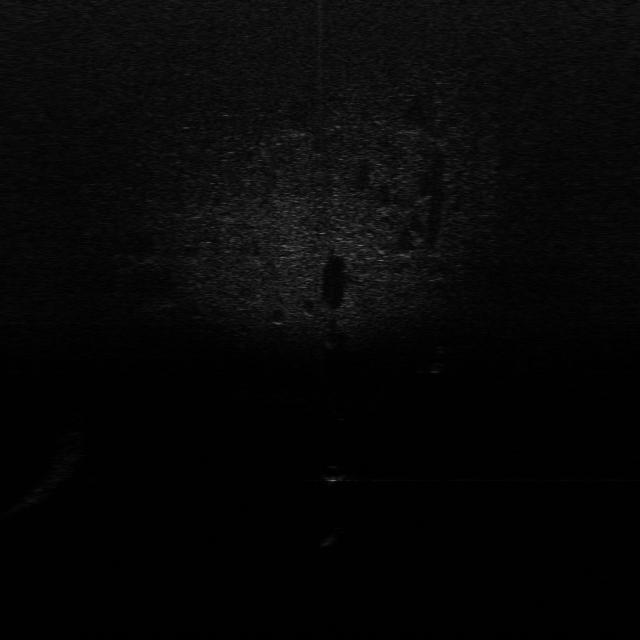ball: (317, 467, 347, 482)
square cage: (316, 525, 360, 548)
tyre: (423, 344, 451, 379)
